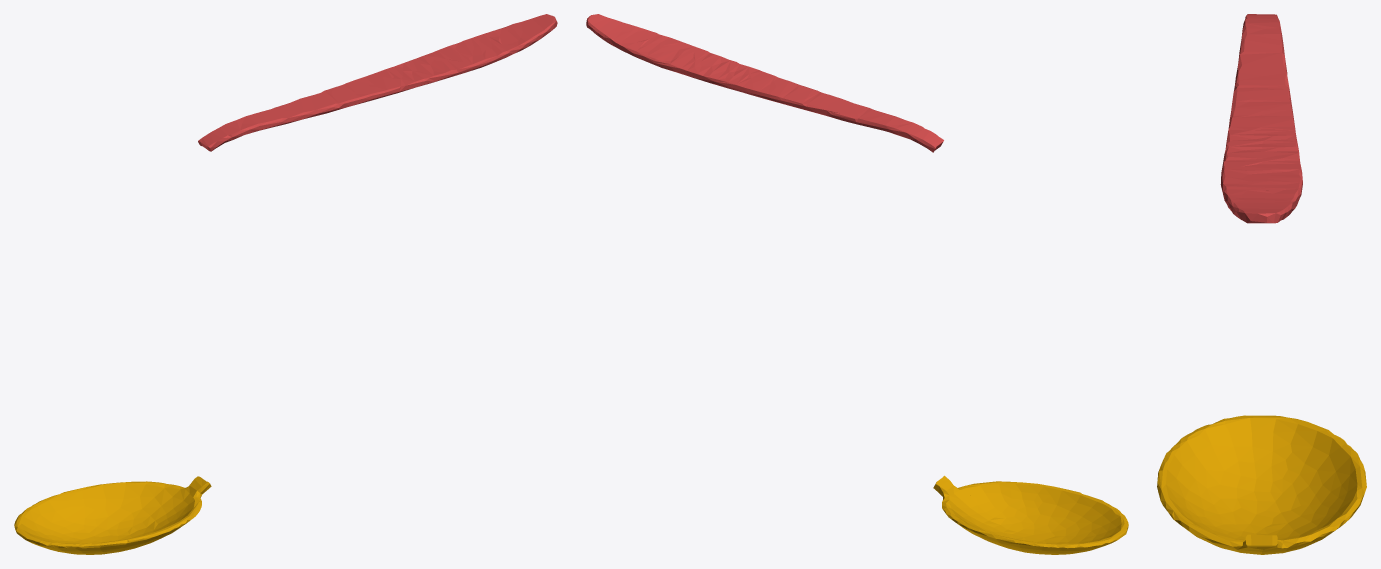
The model's file is mode_1_2pcs_transformed.glb.
3 renders of one model, left to right at view 1: azimuth 30°, elevation 25°; view 2: azimuth 150°, elevation 25°; view 3: azimuth 270°, elevation 25°, orthographic. The views are drawn at different scales.
Visible parts, largest first — view 1: piece_0.obj, piece_1.obj; view 2: piece_0.obj, piece_1.obj; view 3: piece_0.obj, piece_1.obj.
Boxes of the visible parts, x1=… form: piece_0.obj: x1=14, y1=476, x2=211, y2=554; piece_1.obj: x1=198, y1=14, x2=557, y2=151; piece_0.obj: x1=933, y1=475, x2=1128, y2=554; piece_1.obj: x1=586, y1=14, x2=943, y2=152; piece_0.obj: x1=1157, y1=415, x2=1366, y2=554; piece_1.obj: x1=1220, y1=14, x2=1302, y2=223.
Bounding box in the file's own units: 1 × 0.752 × 0.2193.
